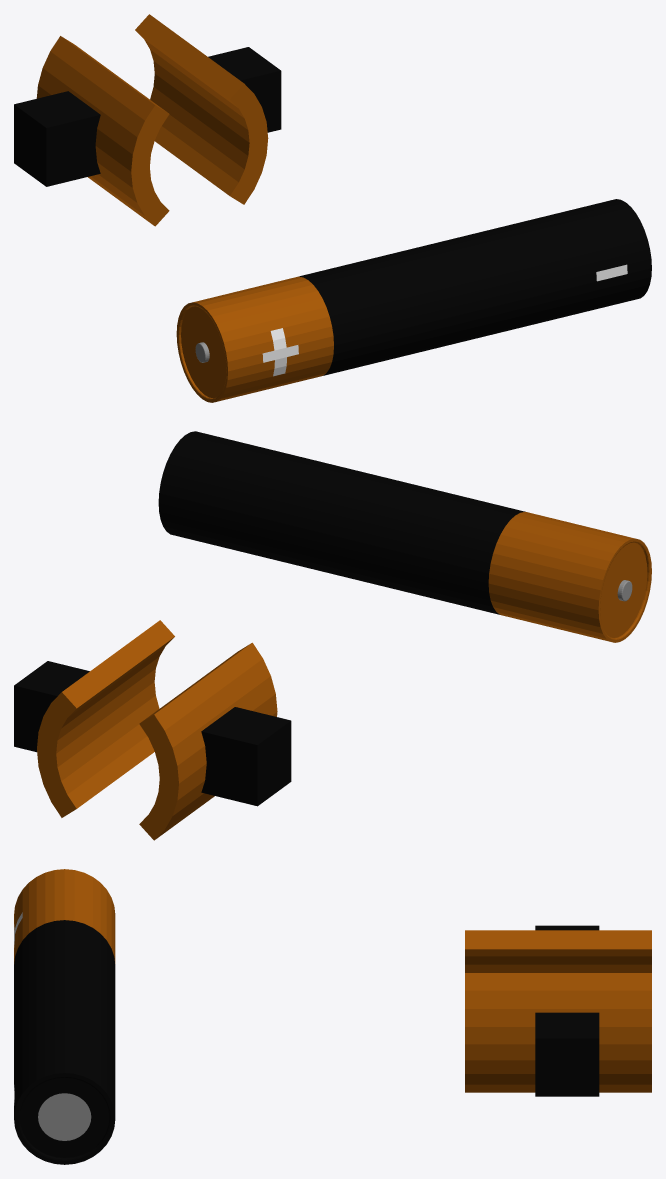
Rendered from battery.fbx.
3 renders of one model, top to bottom at view 1: azimuth 30°, elevation 25°; view 2: azimuth 150°, elevation 25°; view 3: azimuth 270°, elevation 25°, orthographic. The views are drawn at different scales.
Parts seen in each view (by area): view 1: Plane.003; view 2: Plane.003; view 3: Plane.003.
Boxes of the visible parts, box(x1,y1,x2,y2) form: Plane.003: box(14, 14, 651, 402); Plane.003: box(14, 431, 651, 840); Plane.003: box(14, 869, 651, 1164).
Size of the model in its own units: 29.22 by 7.97 by 38.45.
